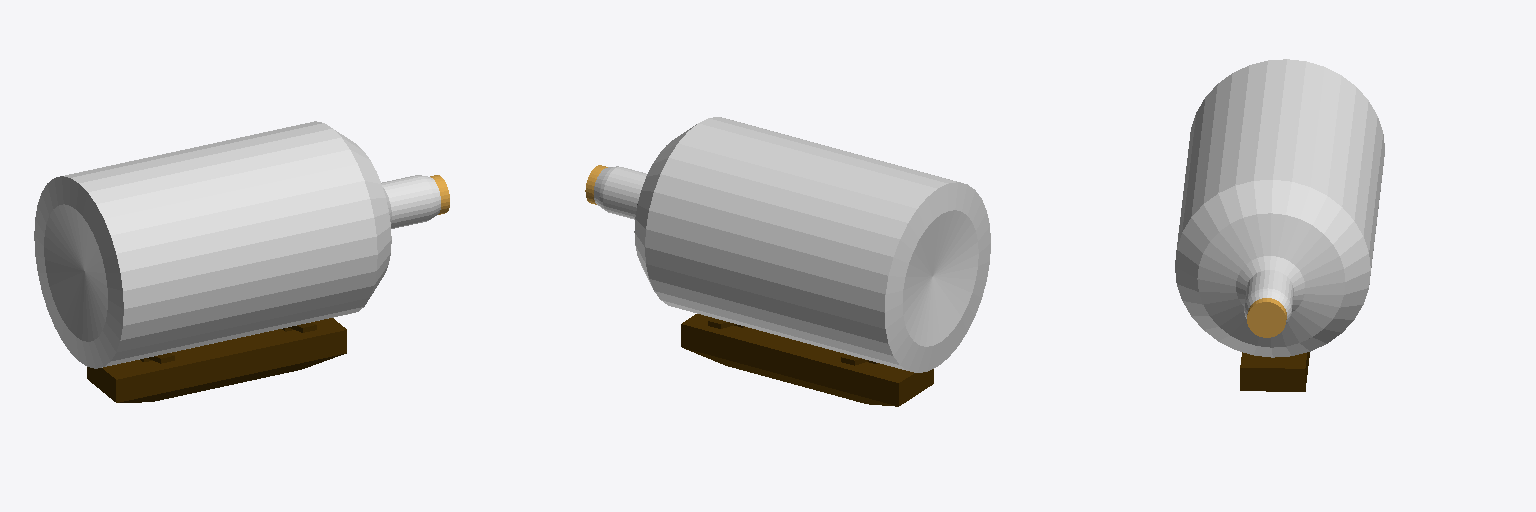
The picture shows the model from 3 angles: view 1: azimuth 30°, elevation 25°; view 2: azimuth 150°, elevation 25°; view 3: azimuth 270°, elevation 25°; orthographic projection.
Parts seen in each view (by area): view 1: Bottle, BottleHolder; view 2: Bottle, BottleHolder; view 3: Bottle, BottleHolder, BottleCap.
Boxes of the visible parts, x1,y1,x2,y2 form: Bottle: [34, 121, 440, 368]; BottleHolder: [87, 318, 346, 402]; Bottle: [594, 117, 990, 372]; BottleHolder: [681, 314, 933, 406]; Bottle: [1175, 59, 1384, 357]; BottleHolder: [1240, 352, 1309, 391]; BottleCap: [1247, 298, 1286, 337].
Bounding box in the file's own units: 4.71 × 2.82 × 2.4.
3 materials, 3 textured.